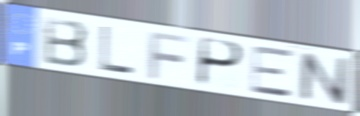B: (42, 14, 91, 70)
E: (249, 44, 295, 100)
F: (146, 29, 193, 81)
L: (99, 24, 137, 76)
N: (297, 49, 350, 108)
P: (195, 35, 247, 89)
